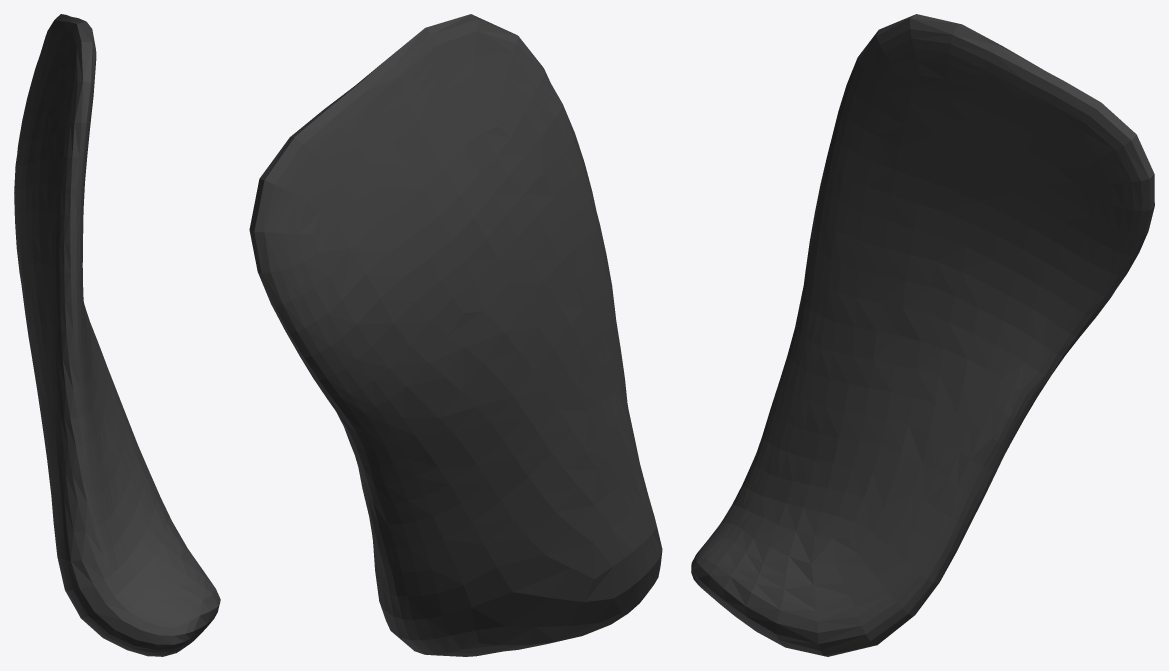
The model's file is m_cricoarytenoideus_lat_LO_R.glb.
3 views of the same model, side by side, from view 1: azimuth 30°, elevation 25°; view 2: azimuth 150°, elevation 25°; view 3: azimuth 270°, elevation 25° (orthographic). The views are drawn at different scales.
Parts seen in each view (by area): view 1: m_cricoarytenoideus_lat_LO_R; view 2: m_cricoarytenoideus_lat_LO_R; view 3: m_cricoarytenoideus_lat_LO_R.
Boxes of the visible parts, box(x1,y1,x2,y2) form: m_cricoarytenoideus_lat_LO_R: box(14, 14, 220, 656); m_cricoarytenoideus_lat_LO_R: box(249, 14, 662, 656); m_cricoarytenoideus_lat_LO_R: box(691, 14, 1154, 656).
Bounding box in the file's own units: 0.0566 × 0.1846 × 0.1268.
1 material, 1 textured.
